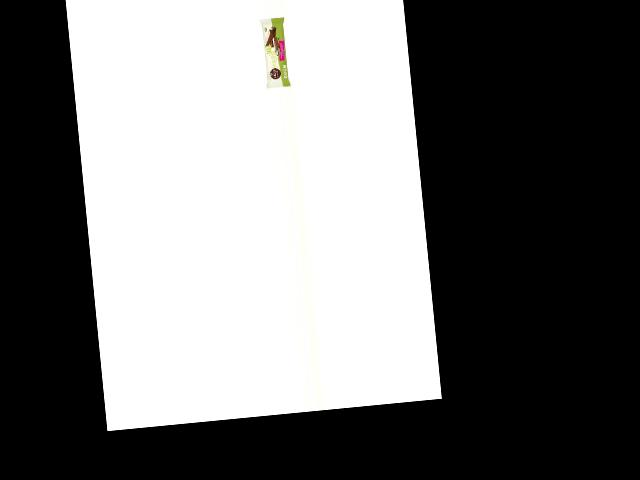chocolate: (258, 15, 293, 88)
